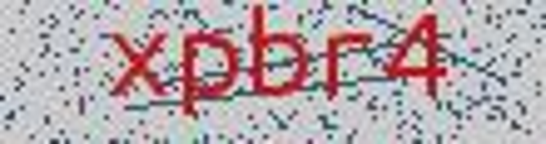4: (380, 2, 468, 118)
b: (242, 1, 312, 113)
p: (175, 21, 241, 125)
r: (317, 21, 379, 108)
x: (83, 13, 172, 112)
